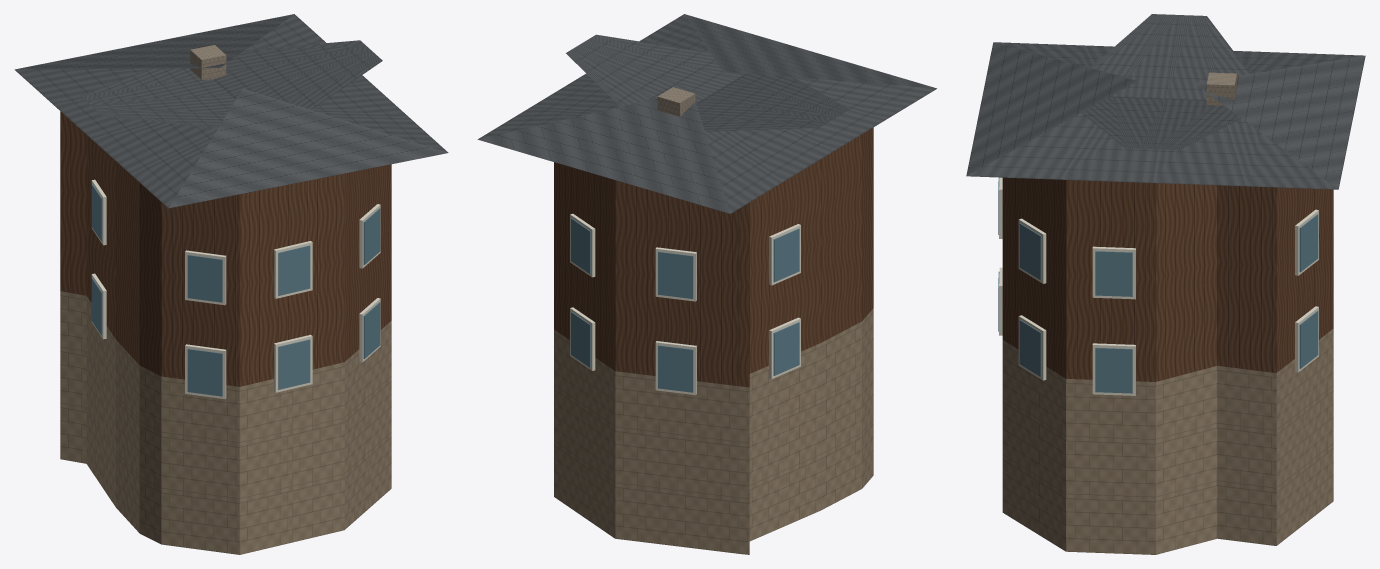
The model's file is core_0149.gltf.
3 renders of one model, left to right at view 1: azimuth 30°, elevation 25°; view 2: azimuth 150°, elevation 25°; view 3: azimuth 270°, elevation 25°, orthographic. The views are drawn at different scales.
Parts seen in each view (by area): view 1: core_0149; view 2: core_0149; view 3: core_0149.
Part boxes in pixels (x1,y1,x2,y2): core_0149: [14, 14, 448, 554]; core_0149: [477, 14, 936, 554]; core_0149: [966, 14, 1365, 554].
Size of the model in its own units: 9.33 by 12.35 by 10.67.
6 materials, 6 textured.
